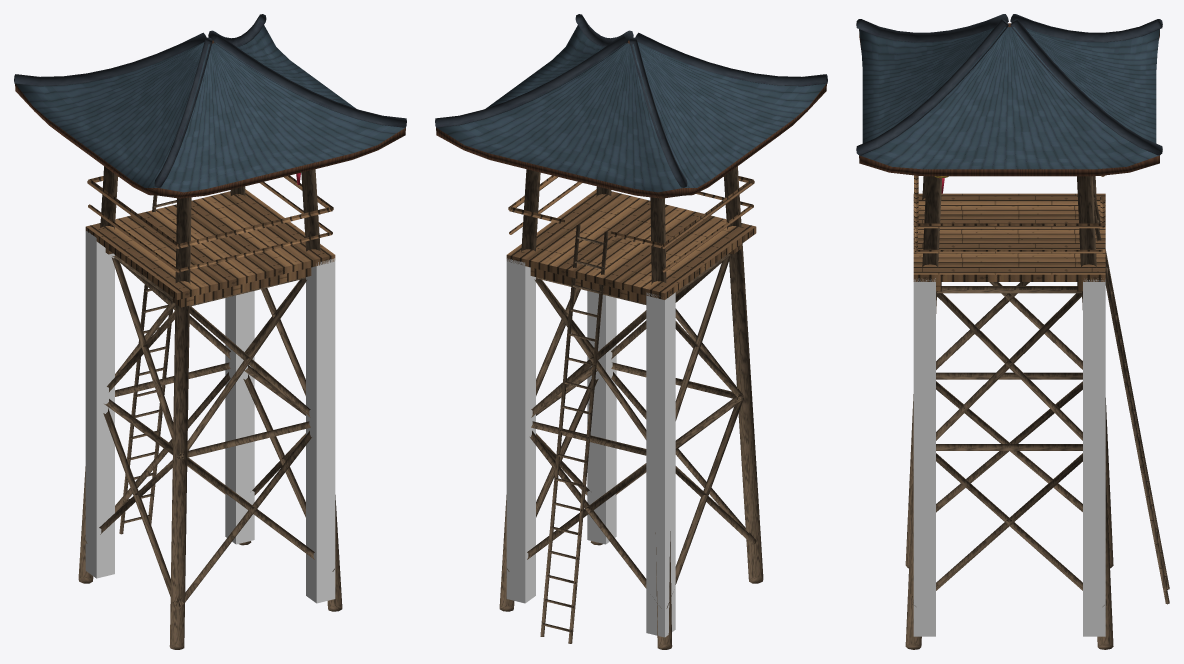
The model's file is watchtower.glb.
The picture shows the model from 3 angles, left to right: view 1: azimuth 30°, elevation 25°; view 2: azimuth 150°, elevation 25°; view 3: azimuth 270°, elevation 25°; orthographic projection. The views are drawn at different scales.
Parts seen in each view (by area): view 1: TowerRoof, TowerLogs, TowerDeck, TowerLeg-convcolonly.002, TowerLeg-convcolonly.001, TowerLeg-convcolonly.003, TowerRoofRidges; view 2: TowerRoof, TowerLogs, TowerDeck, TowerLeg-convcolonly.001, TowerLeg-convcolonly.003, TowerRoofRidges, TowerLeg-convcolonly.002; view 3: TowerRoof, TowerLogs, TowerDeck, TowerLeg-convcolonly.002, TowerLeg-convcolonly.003, TowerRoofRidges.
Part boxes in pixels (bbox=[...]): TowerRoof: bbox=[15, 25, 405, 198]; TowerLogs: bbox=[78, 166, 342, 649]; TowerDeck: bbox=[85, 175, 335, 307]; TowerLeg-convcolonly.002: bbox=[306, 258, 335, 603]; TowerLeg-convcolonly.001: bbox=[85, 231, 114, 578]; TowerLeg-convcolonly.003: bbox=[225, 291, 254, 544]; TowerRoofRidges: bbox=[14, 14, 406, 187]; TowerRoof: bbox=[436, 25, 826, 198]; TowerLogs: bbox=[499, 166, 763, 649]; TowerDeck: bbox=[506, 175, 756, 303]; TowerLeg-convcolonly.001: bbox=[646, 292, 675, 637]; TowerLeg-convcolonly.003: bbox=[506, 258, 535, 603]; TowerRoofRidges: bbox=[435, 14, 827, 187]; TowerLeg-convcolonly.002: bbox=[587, 291, 616, 544]; TowerRoof: bbox=[859, 23, 1159, 176]; TowerLogs: bbox=[905, 176, 1169, 649]; TowerDeck: bbox=[913, 175, 1105, 291]; TowerLeg-convcolonly.002: bbox=[913, 278, 935, 636]; TowerLeg-convcolonly.003: bbox=[1083, 278, 1105, 636]; TowerRoofRidges: bbox=[856, 14, 1162, 155].
Size of what is drawn, in the model's own units: 5.43 by 11.52 by 5.55.
Materials: 8 (8 with a texture image).
